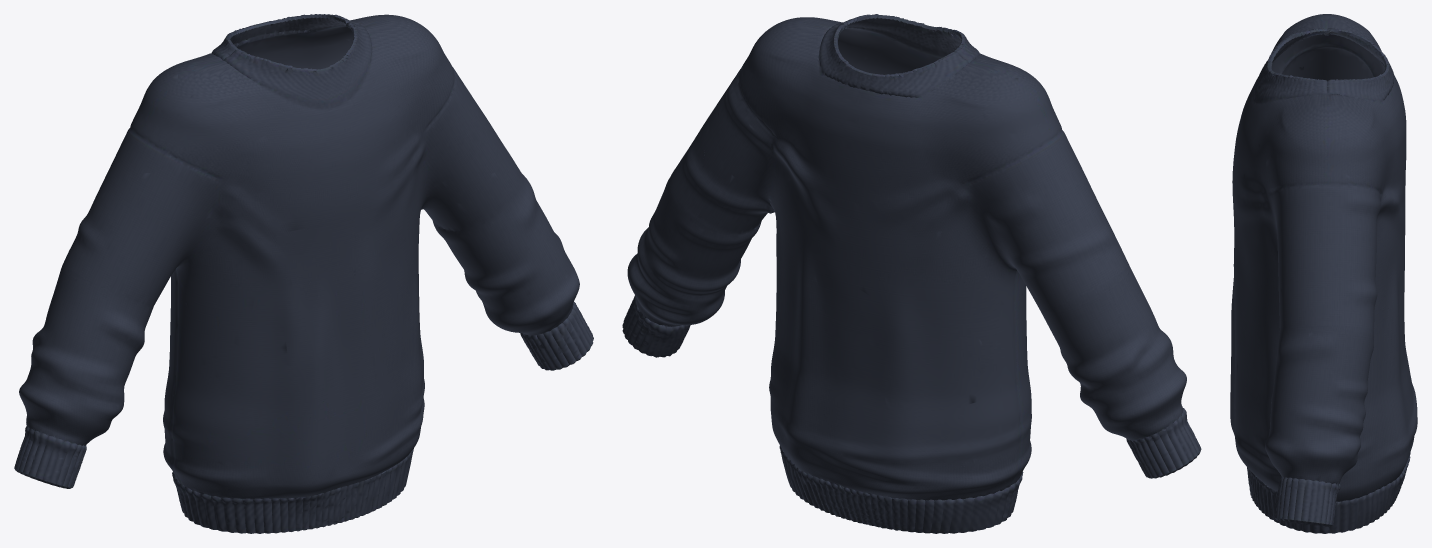
File: 01_jersey_cuello_redondo_pbr.glb
3 views of the same model, side by side, from view 1: azimuth 30°, elevation 25°; view 2: azimuth 150°, elevation 25°; view 3: azimuth 270°, elevation 25° (orthographic). The views are drawn at different scales.
Parts seen in each view (by area): view 1: Camiseta PBR; view 2: Camiseta PBR; view 3: Camiseta PBR.
Boxes of the visible parts, x1=… form: Camiseta PBR: x1=14, y1=14, x2=593, y2=533; Camiseta PBR: x1=622, y1=14, x2=1201, y2=533; Camiseta PBR: x1=1230, y1=14, x2=1417, y2=533.
Bounding box in the file's own units: 0.988 × 0.7641 × 0.2988.
Materials: 1 (1 with a texture image).
